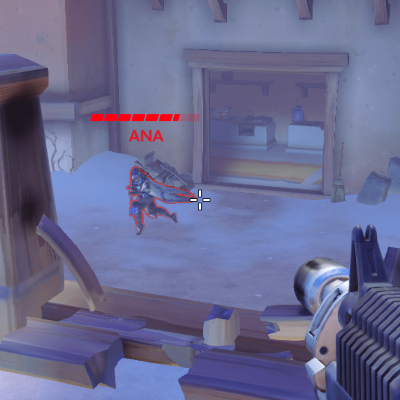hpbar: (90, 113, 201, 122)
